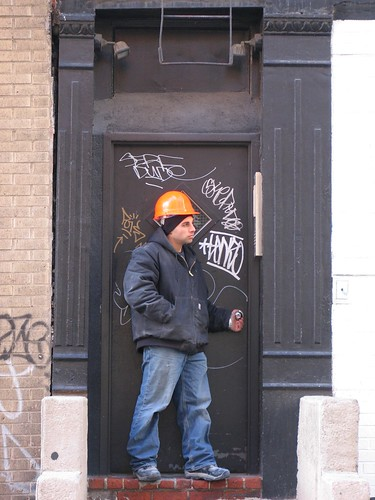person hardhat: (121, 189, 258, 484)
